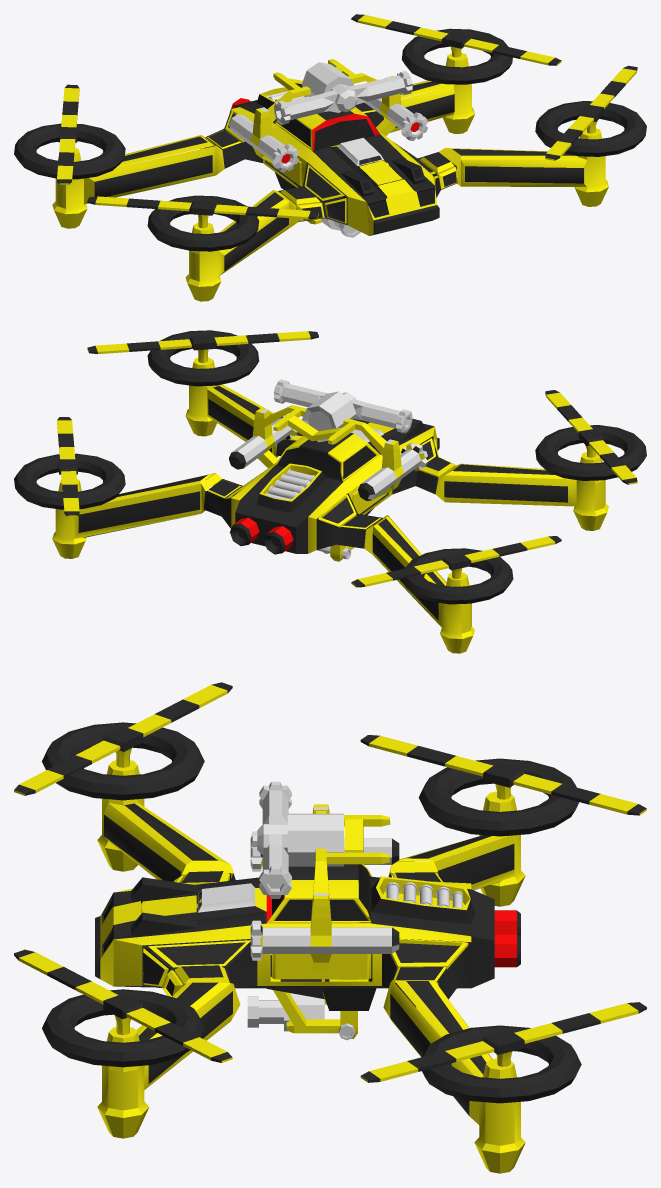
3 renders of one model, top to bottom at view 1: azimuth 30°, elevation 25°; view 2: azimuth 150°, elevation 25°; view 3: azimuth 270°, elevation 25°, orthographic. The views are drawn at different scales.
Visible parts, largest first — view 1: drone_costum; view 2: drone_costum; view 3: drone_costum.
Boxes of the visible parts, box(x1,y1,x2,y2) form: drone_costum: box(14, 14, 646, 301); drone_costum: box(14, 330, 646, 653); drone_costum: box(14, 682, 646, 1173).
Size of the model in its own units: 9.92 by 7.01 by 2.68.
